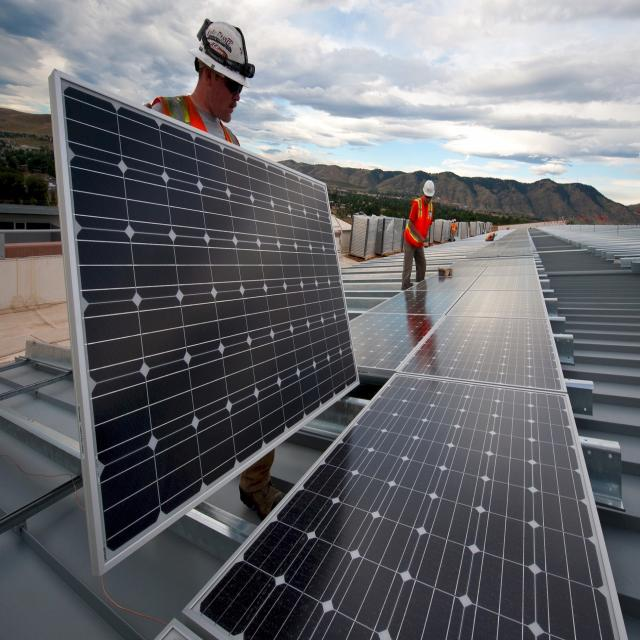clean-solar-panel: (184, 230, 626, 639), (50, 70, 358, 575)
